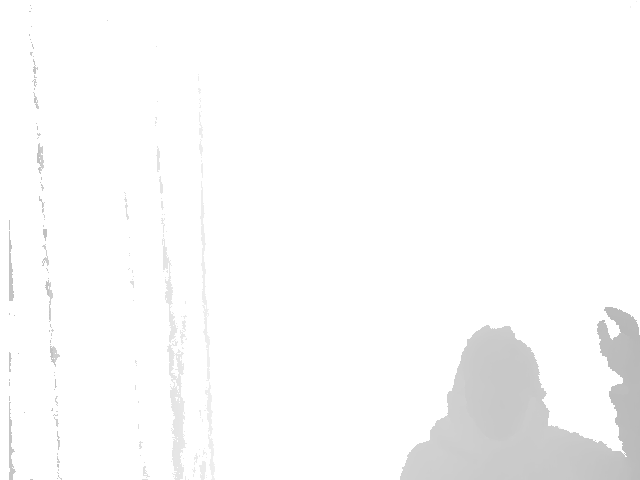hand: (593, 304, 640, 385)
head: (443, 323, 551, 442)
person: (399, 302, 640, 480)
